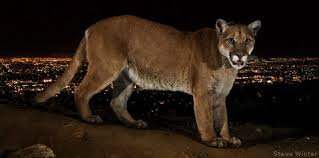Mountain Lion: (34, 11, 268, 148)
